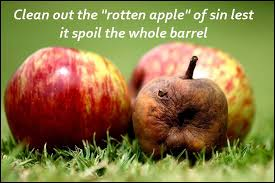apple: (10, 50, 130, 143)
damaged_apple: (133, 76, 230, 158)
